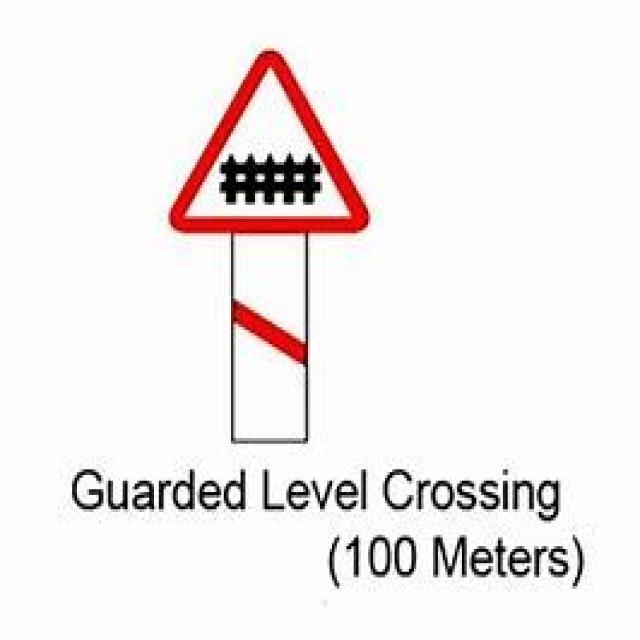GUARDED_LEVEL_CROSSING: (167, 45, 372, 444)
